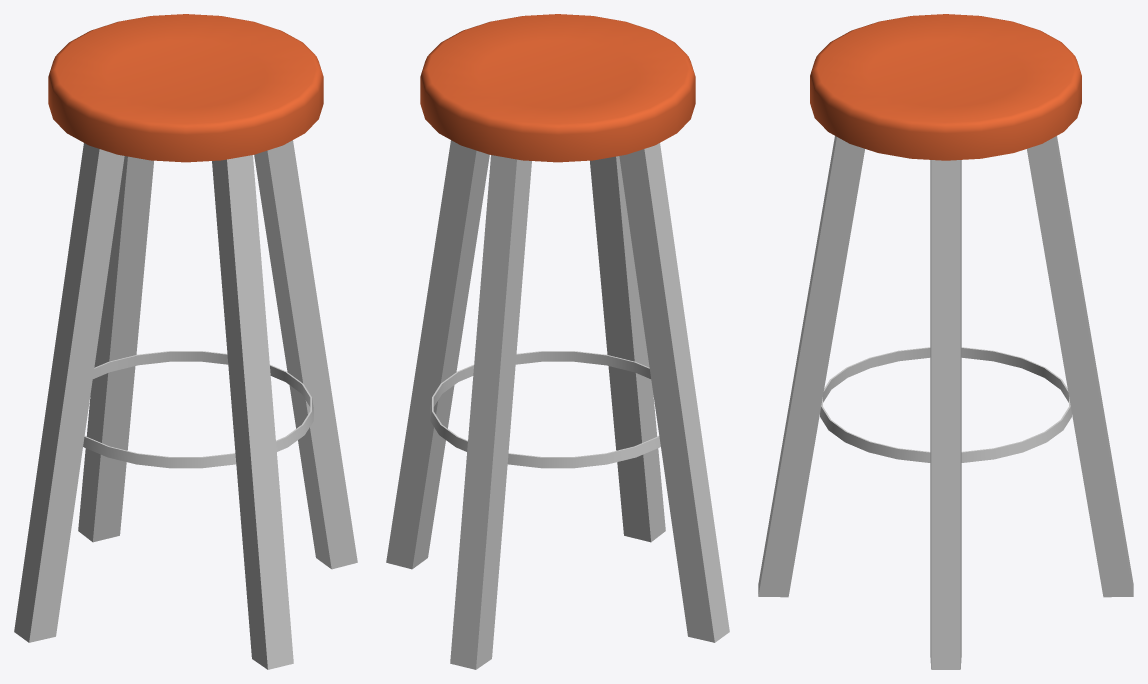
File: Bar_Stool.fbx
3 renders of one model, left to right at view 1: azimuth 30°, elevation 25°; view 2: azimuth 150°, elevation 25°; view 3: azimuth 270°, elevation 25°, orthographic.
Parts seen in each view (by area): view 1: Barstool_low; view 2: Barstool_low; view 3: Barstool_low.
Boxes of the visible parts, left/top/right/bottom form: Barstool_low: left=14, top=14, right=357, bottom=669; Barstool_low: left=386, top=14, right=729, bottom=669; Barstool_low: left=758, top=14, right=1133, bottom=669.
Bounding box in the file's own units: 4832 × 7418 × 4832.
